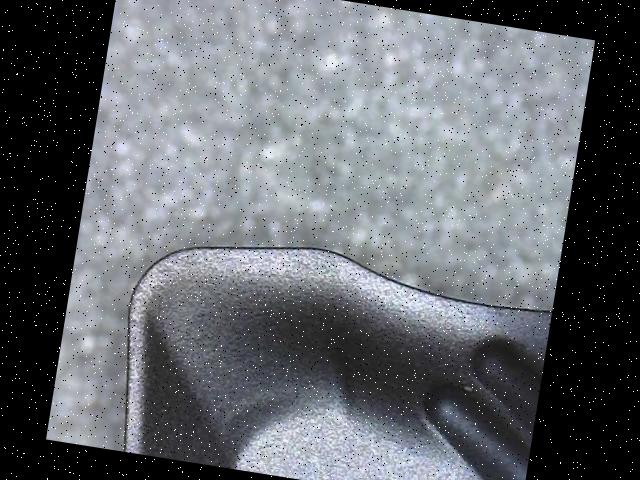normal: (120, 243, 549, 455)
